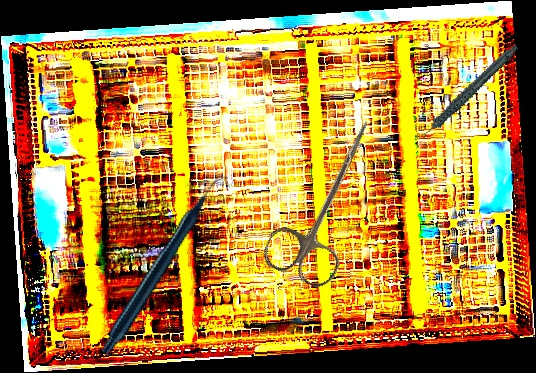Handpiece: (58, 174, 273, 357), (400, 44, 533, 141)
Iris Scissors: (258, 104, 398, 293)
